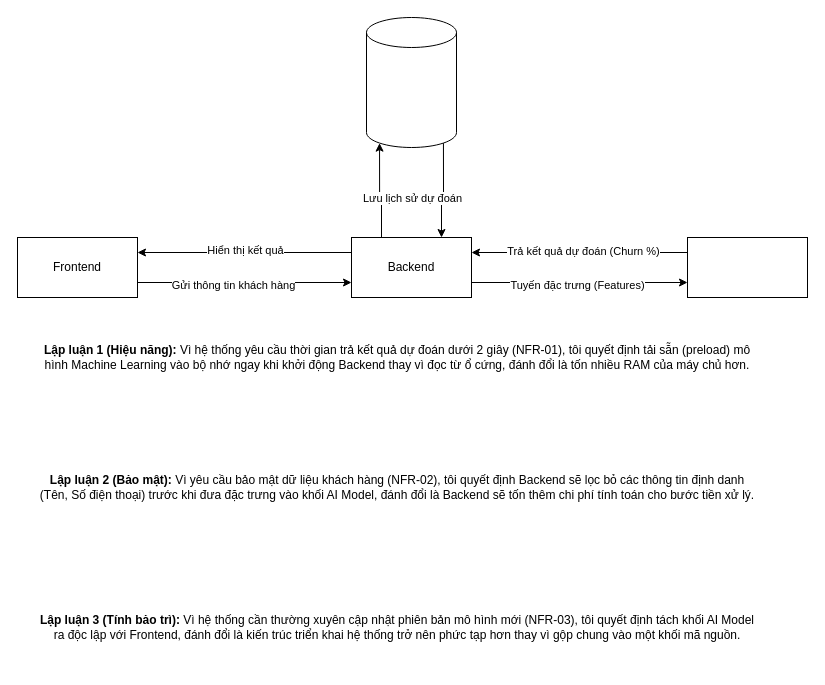
The diagram is 825 pixels wide and 685 high, and some of its shapes have lost their labels. The centre of each missing label's shape, as x and y in pixels:
AI Model: the point at 747,267
Database: the point at 411,82
